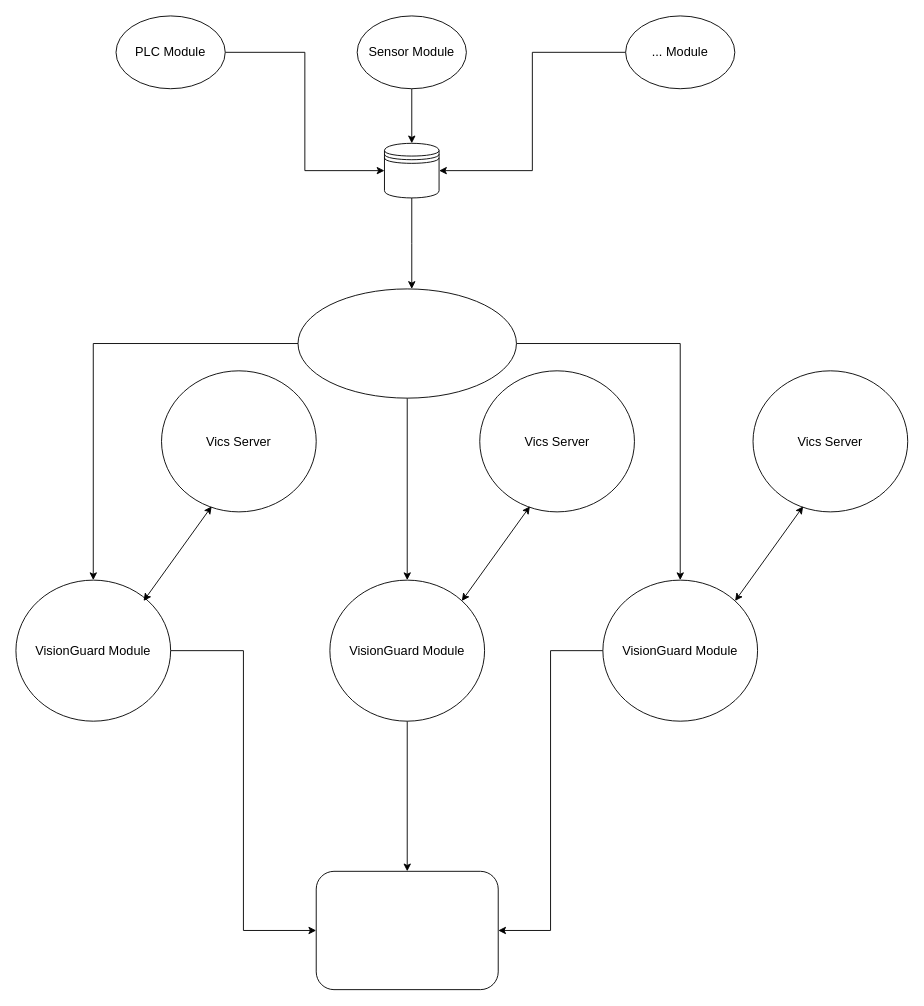
This 924x1006 diagram has some shape labels left out. The shapes that lost their labels are listed below. From the top down, each one's centre as x and y in pixels, then its label:
point 411,170: Queue
point 406,343: Load Balencer Server
point 406,930: FTP Server
